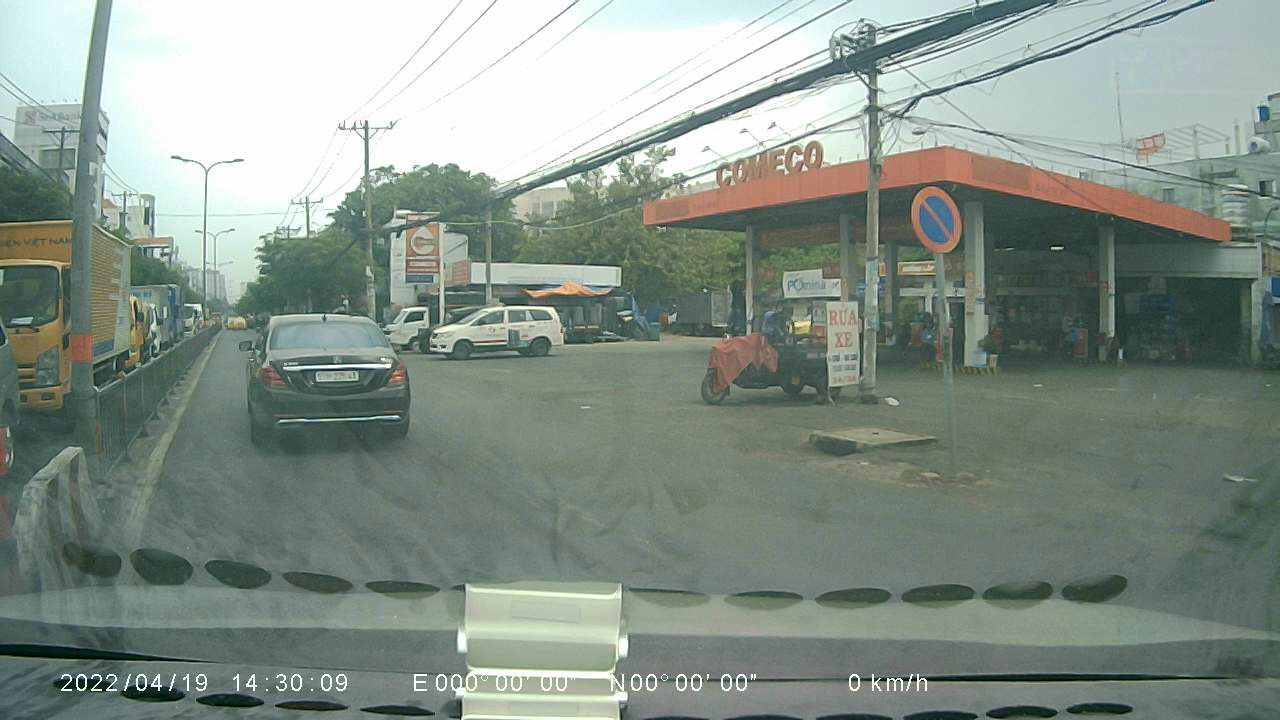Cam do xe: (908, 184, 965, 254)
